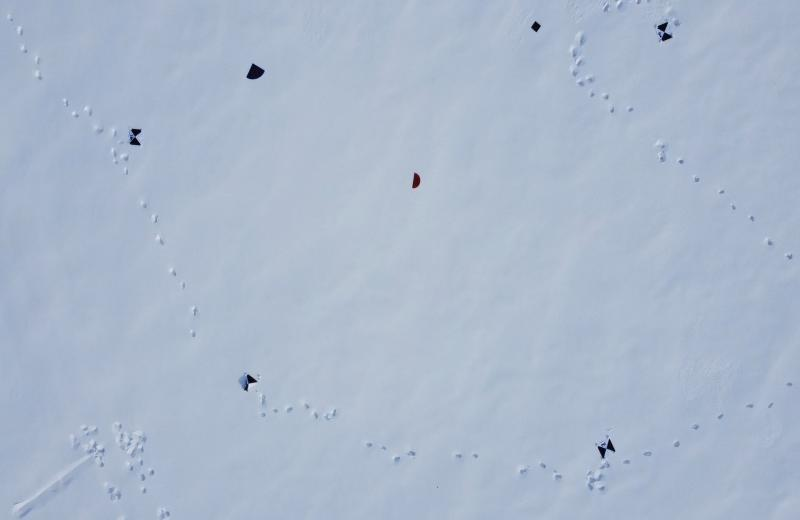Quarter Circle: (244, 62, 265, 82)
Semi Circle: (410, 172, 422, 189)
Square: (530, 20, 541, 35)
